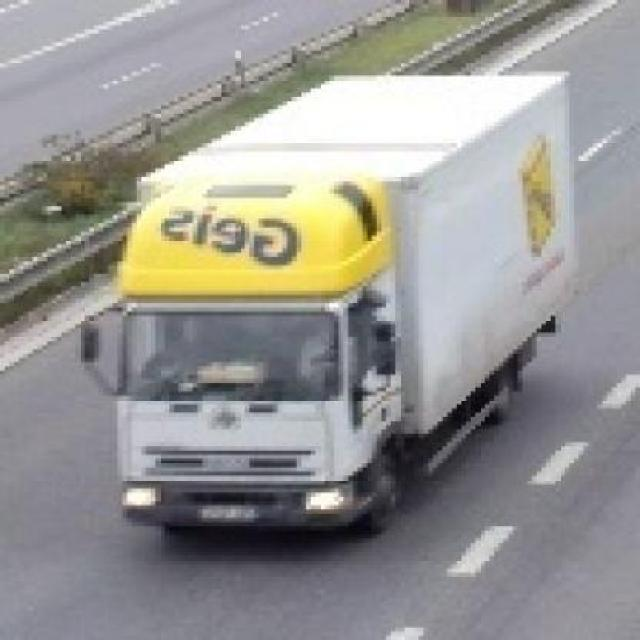truck: (81, 64, 570, 549)
